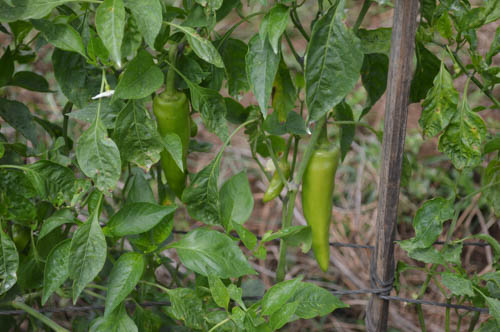ChiliPepper: (303, 144, 339, 273), (157, 91, 190, 187), (265, 161, 291, 215)
